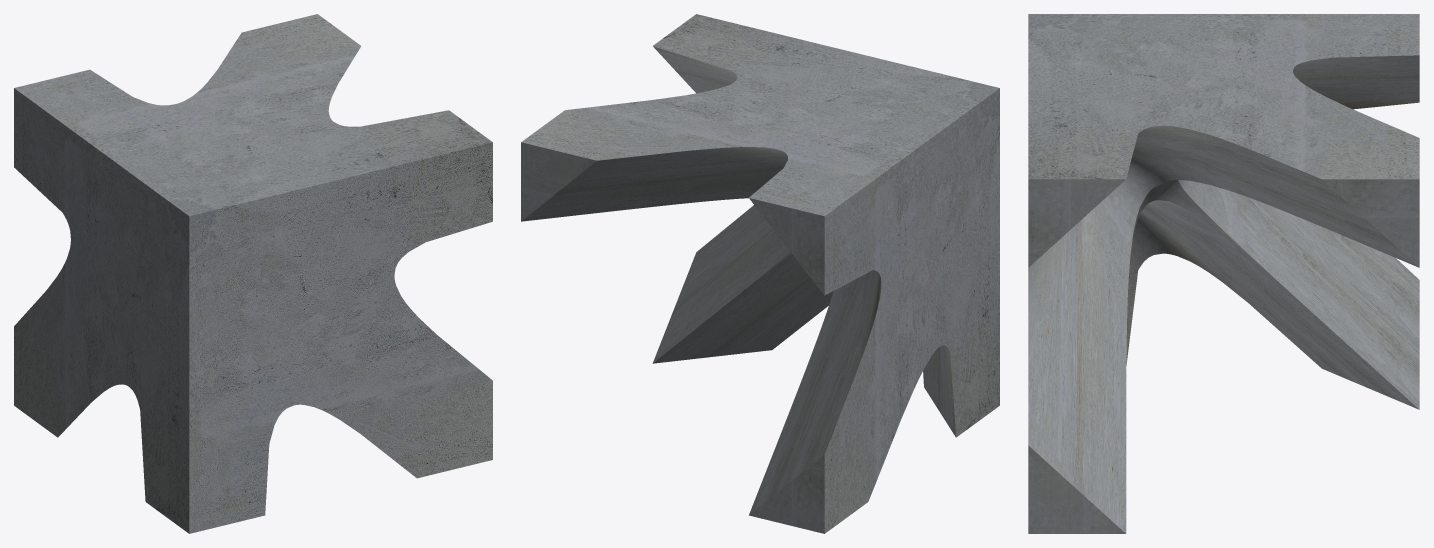
The model's file is module_T1.fbx.
The picture shows the model from 3 angles, left to right: view 1: azimuth 30°, elevation 25°; view 2: azimuth 150°, elevation 25°; view 3: azimuth 270°, elevation 25°; orthographic projection. The views are drawn at different scales.
Visible parts, largest first — view 1: modules; view 2: modules; view 3: modules.
Boxes of the visible parts, x1,y1,x2,y2 form: modules: [14, 14, 492, 533]; modules: [521, 14, 999, 533]; modules: [1028, 14, 1419, 533].
Bounding box in the file's own units: 1000 × 1000 × 1000.
1 material, 1 textured.
